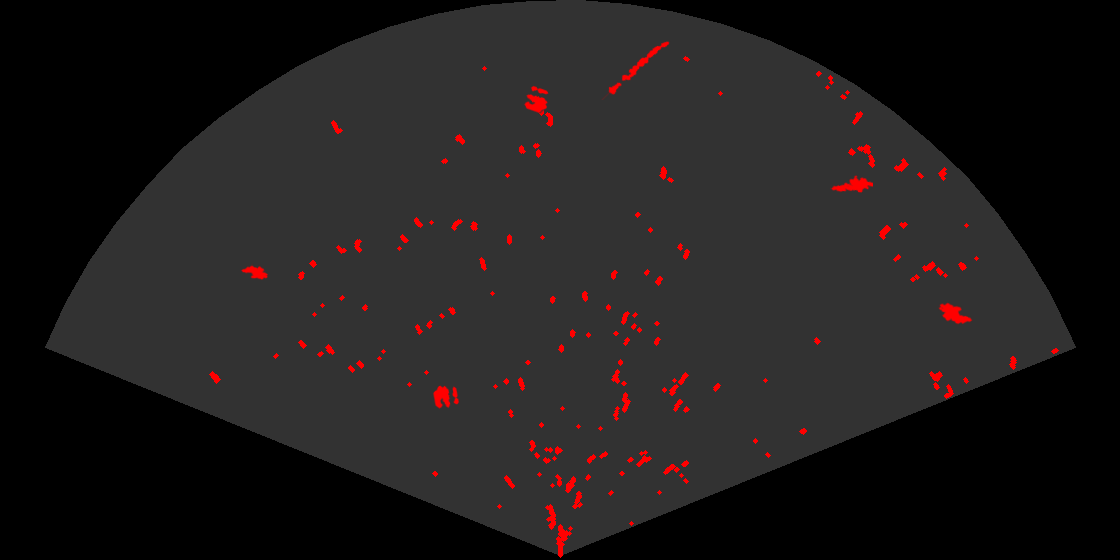AUV: (937, 301, 974, 326), (239, 263, 270, 281)
ball: (522, 84, 550, 114), (432, 384, 461, 411)
chain: (600, 40, 671, 100)
frogman: (830, 174, 873, 194)
